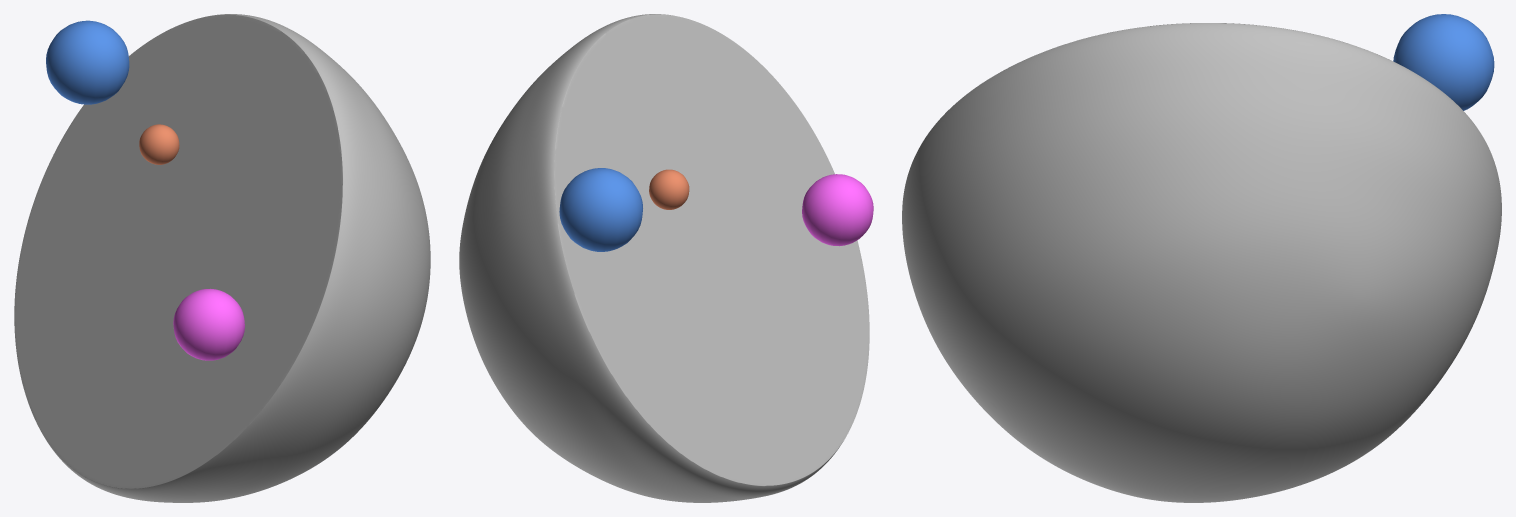
The picture shows the model from 3 angles, left to right: view 1: azimuth 30°, elevation 25°; view 2: azimuth 150°, elevation 25°; view 3: azimuth 270°, elevation 25°; orthographic projection. The views are drawn at different scales.
Parts seen in each view (by area): view 1: Main_form, Blue_Sphere, Purple_Sphere, Peach_Sphere; view 2: Main_form, Blue_Sphere, Purple_Sphere, Peach_Sphere; view 3: Main_form, Blue_Sphere.
Boxes of the visible parts, x1,y1,x2,y2 form: Main_form: [14, 14, 430, 502]; Blue_Sphere: [46, 20, 129, 104]; Purple_Sphere: [173, 288, 244, 360]; Peach_Sphere: [139, 124, 179, 164]; Main_form: [459, 14, 869, 502]; Blue_Sphere: [559, 168, 642, 251]; Purple_Sphere: [802, 174, 873, 246]; Peach_Sphere: [649, 169, 689, 209]; Main_form: [902, 23, 1501, 502]; Blue_Sphere: [1393, 14, 1494, 110].
Bounding box in the file's own units: 2.81 × 3.53 × 3.76.
